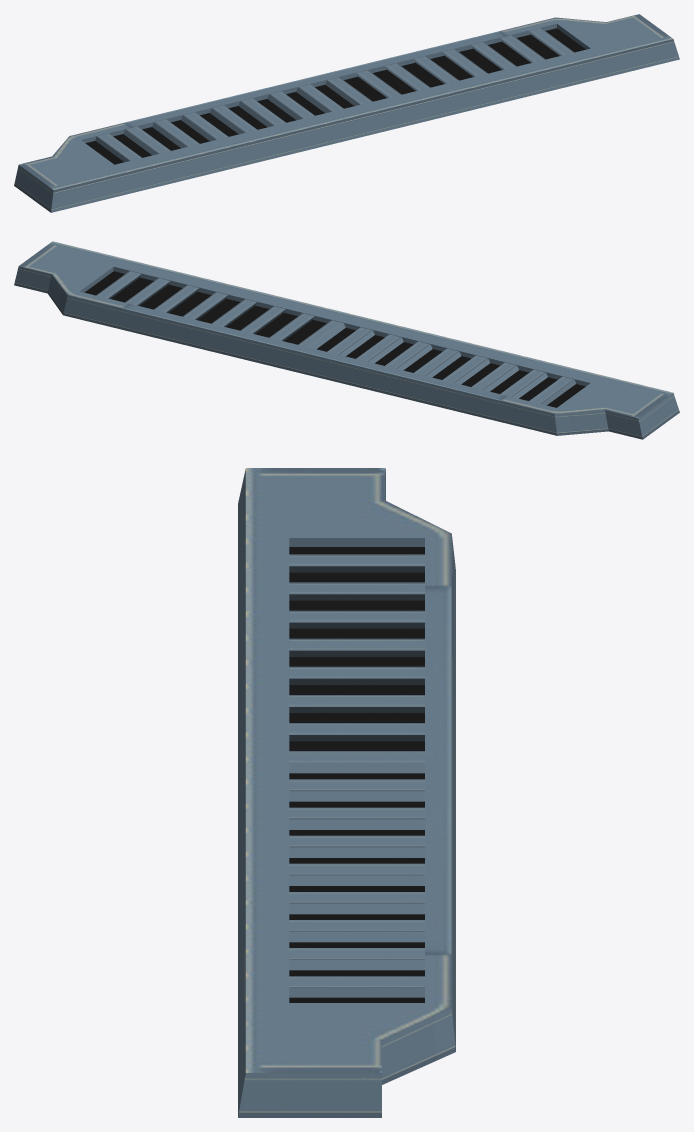
Rendered from Prop_Vent_Wide.gltf.
3 views of the same model, one above another, from view 1: azimuth 30°, elevation 25°; view 2: azimuth 150°, elevation 25°; view 3: azimuth 270°, elevation 25° (orthographic). The views are drawn at different scales.
Visible parts, largest first — view 1: Prop_Vent_Wide; view 2: Prop_Vent_Wide; view 3: Prop_Vent_Wide.
Boxes of the visible parts, <box> form: Prop_Vent_Wide: <box>14,14,679,212</box>; Prop_Vent_Wide: <box>14,241,679,439</box>; Prop_Vent_Wide: <box>238,468,455,1117</box>.
Bounding box in the file's own units: 1.94 × 0.0595 × 0.291.
Materials: 3 (2 with a texture image).
